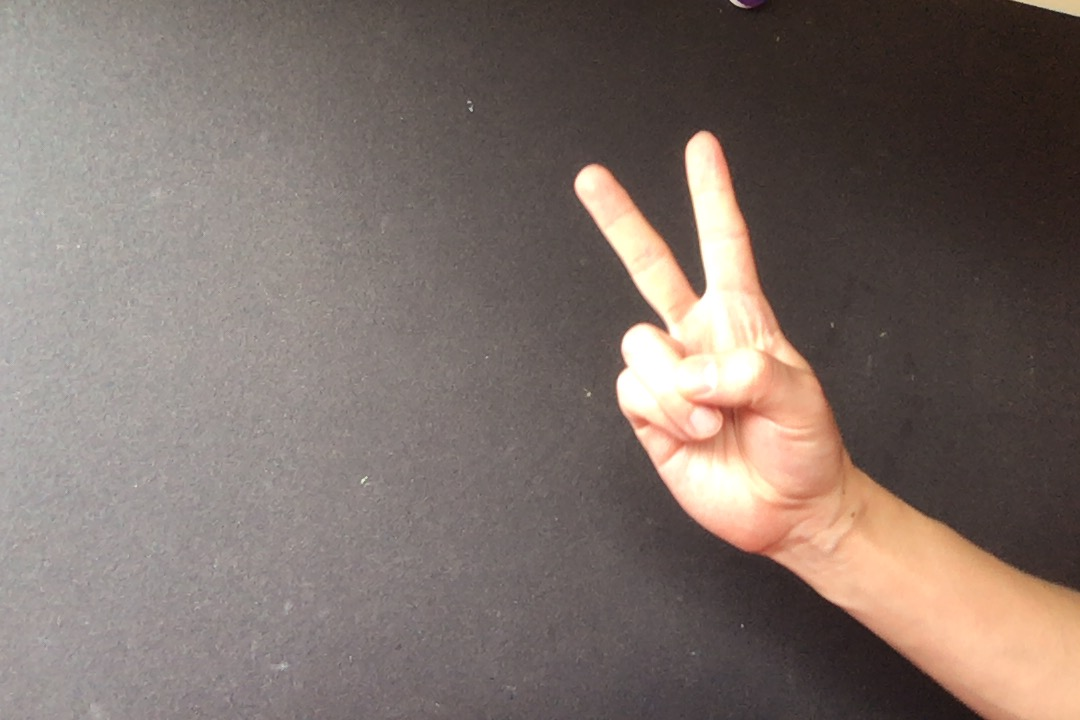peacesign: (567, 124, 851, 566)
